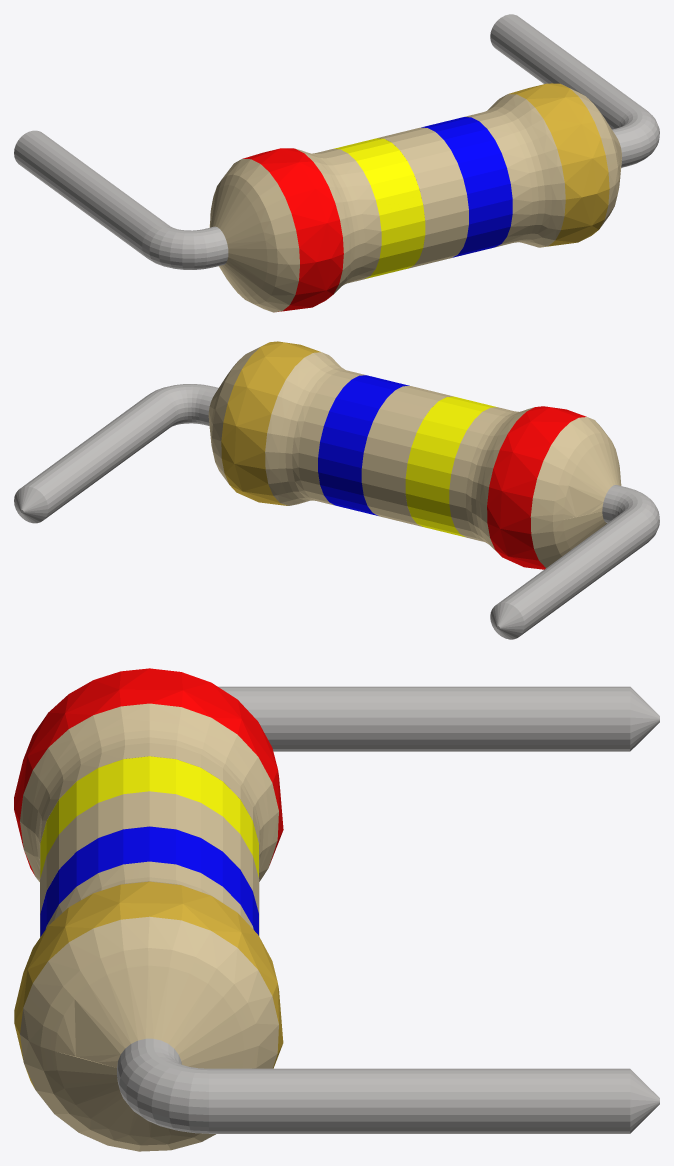
Rendered from Yageo CFR-25 Resistor Axial P7.62mm 24,0 MOhm.obj.
3 views of the same model, one above another, from view 1: azimuth 30°, elevation 25°; view 2: azimuth 150°, elevation 25°; view 3: azimuth 270°, elevation 25° (orthographic). The views are drawn at different scales.
Parts seen in each view (by area): view 1: Yageo_CFR-25_Resistor_Axial_P7.62mm_24,0_MOhm; view 2: Yageo_CFR-25_Resistor_Axial_P7.62mm_24,0_MOhm; view 3: Yageo_CFR-25_Resistor_Axial_P7.62mm_24,0_MOhm.
Boxes of the visible parts, bbox=[...] form: Yageo_CFR-25_Resistor_Axial_P7.62mm_24,0_MOhm: bbox=[14, 14, 659, 312]; Yageo_CFR-25_Resistor_Axial_P7.62mm_24,0_MOhm: bbox=[14, 341, 659, 639]; Yageo_CFR-25_Resistor_Axial_P7.62mm_24,0_MOhm: bbox=[14, 668, 659, 1151].
Size of the model in its own units: 0.0199 by 0.0055 by 0.0133.
